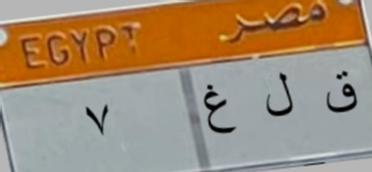7: (80, 100, 115, 138)
ghayn: (198, 83, 242, 142)
laam: (257, 66, 296, 125)
qaaf: (320, 66, 360, 121)
